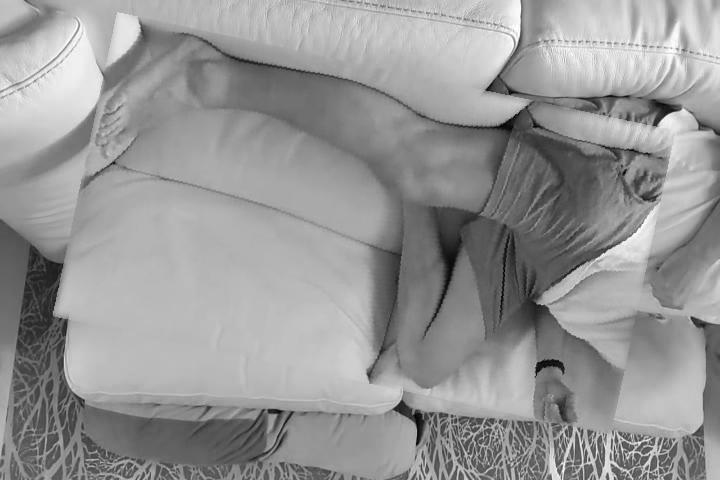lowerbody: (66, 41, 663, 408)
